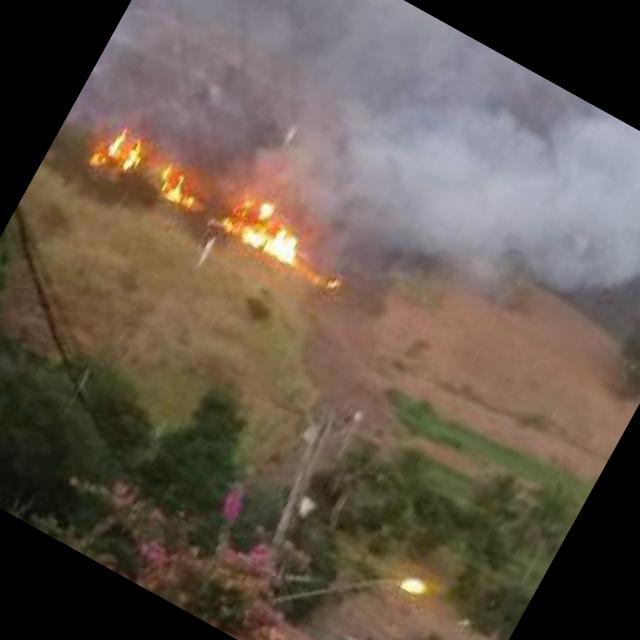fire: (86, 118, 206, 215), (218, 189, 316, 267)
smoke: (65, 0, 640, 426)
